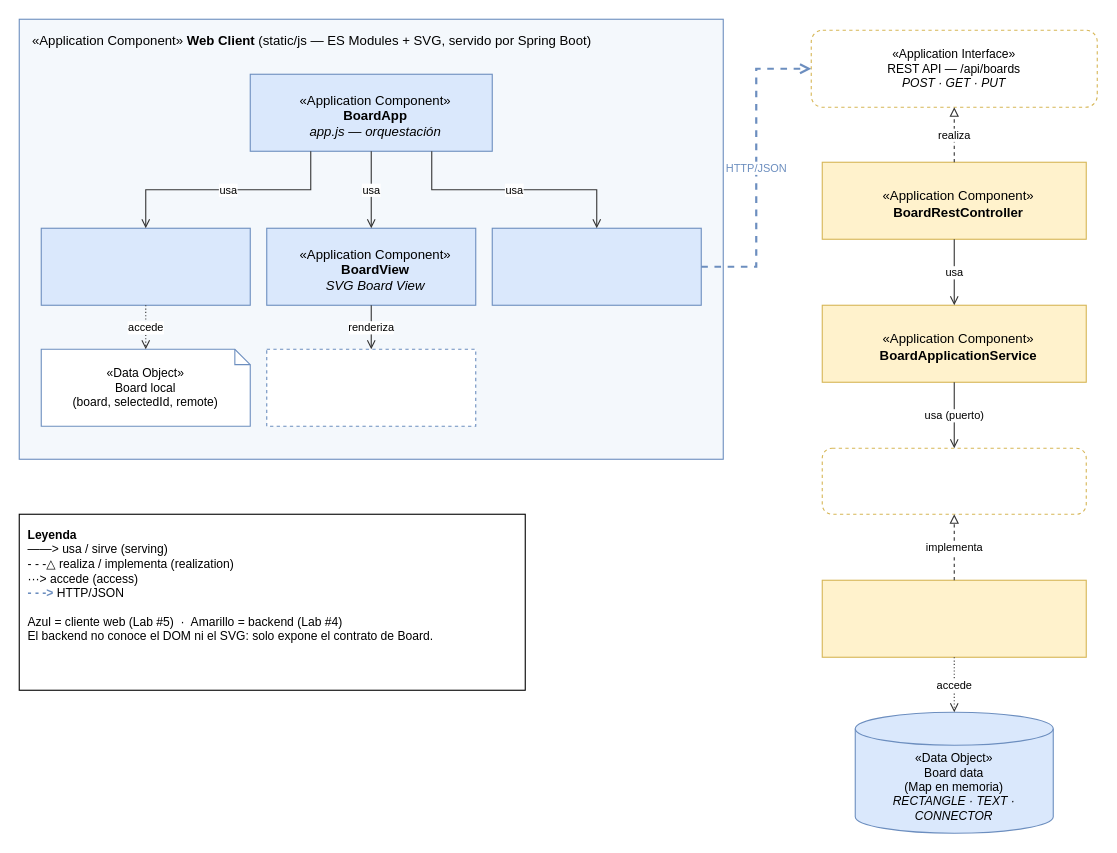
The diagram is 1117 pixels wide and 853 high, and some of its shapes have lost their labels. The box of each missing label's shape, as (x1, y1, x2, y2) in pixels:
SVG / DOM (#boardCanvas): (266, 348, 476, 426)
«Application Component» BoardApiClient único módulo con fetch: (491, 227, 701, 305)
«Application Component» BoardState estado local: (40, 227, 250, 305)
«Application Component» InMemoryBoardRepository: (821, 579, 1086, 657)
«Application Interface» BoardRepository (port): (821, 447, 1086, 514)
